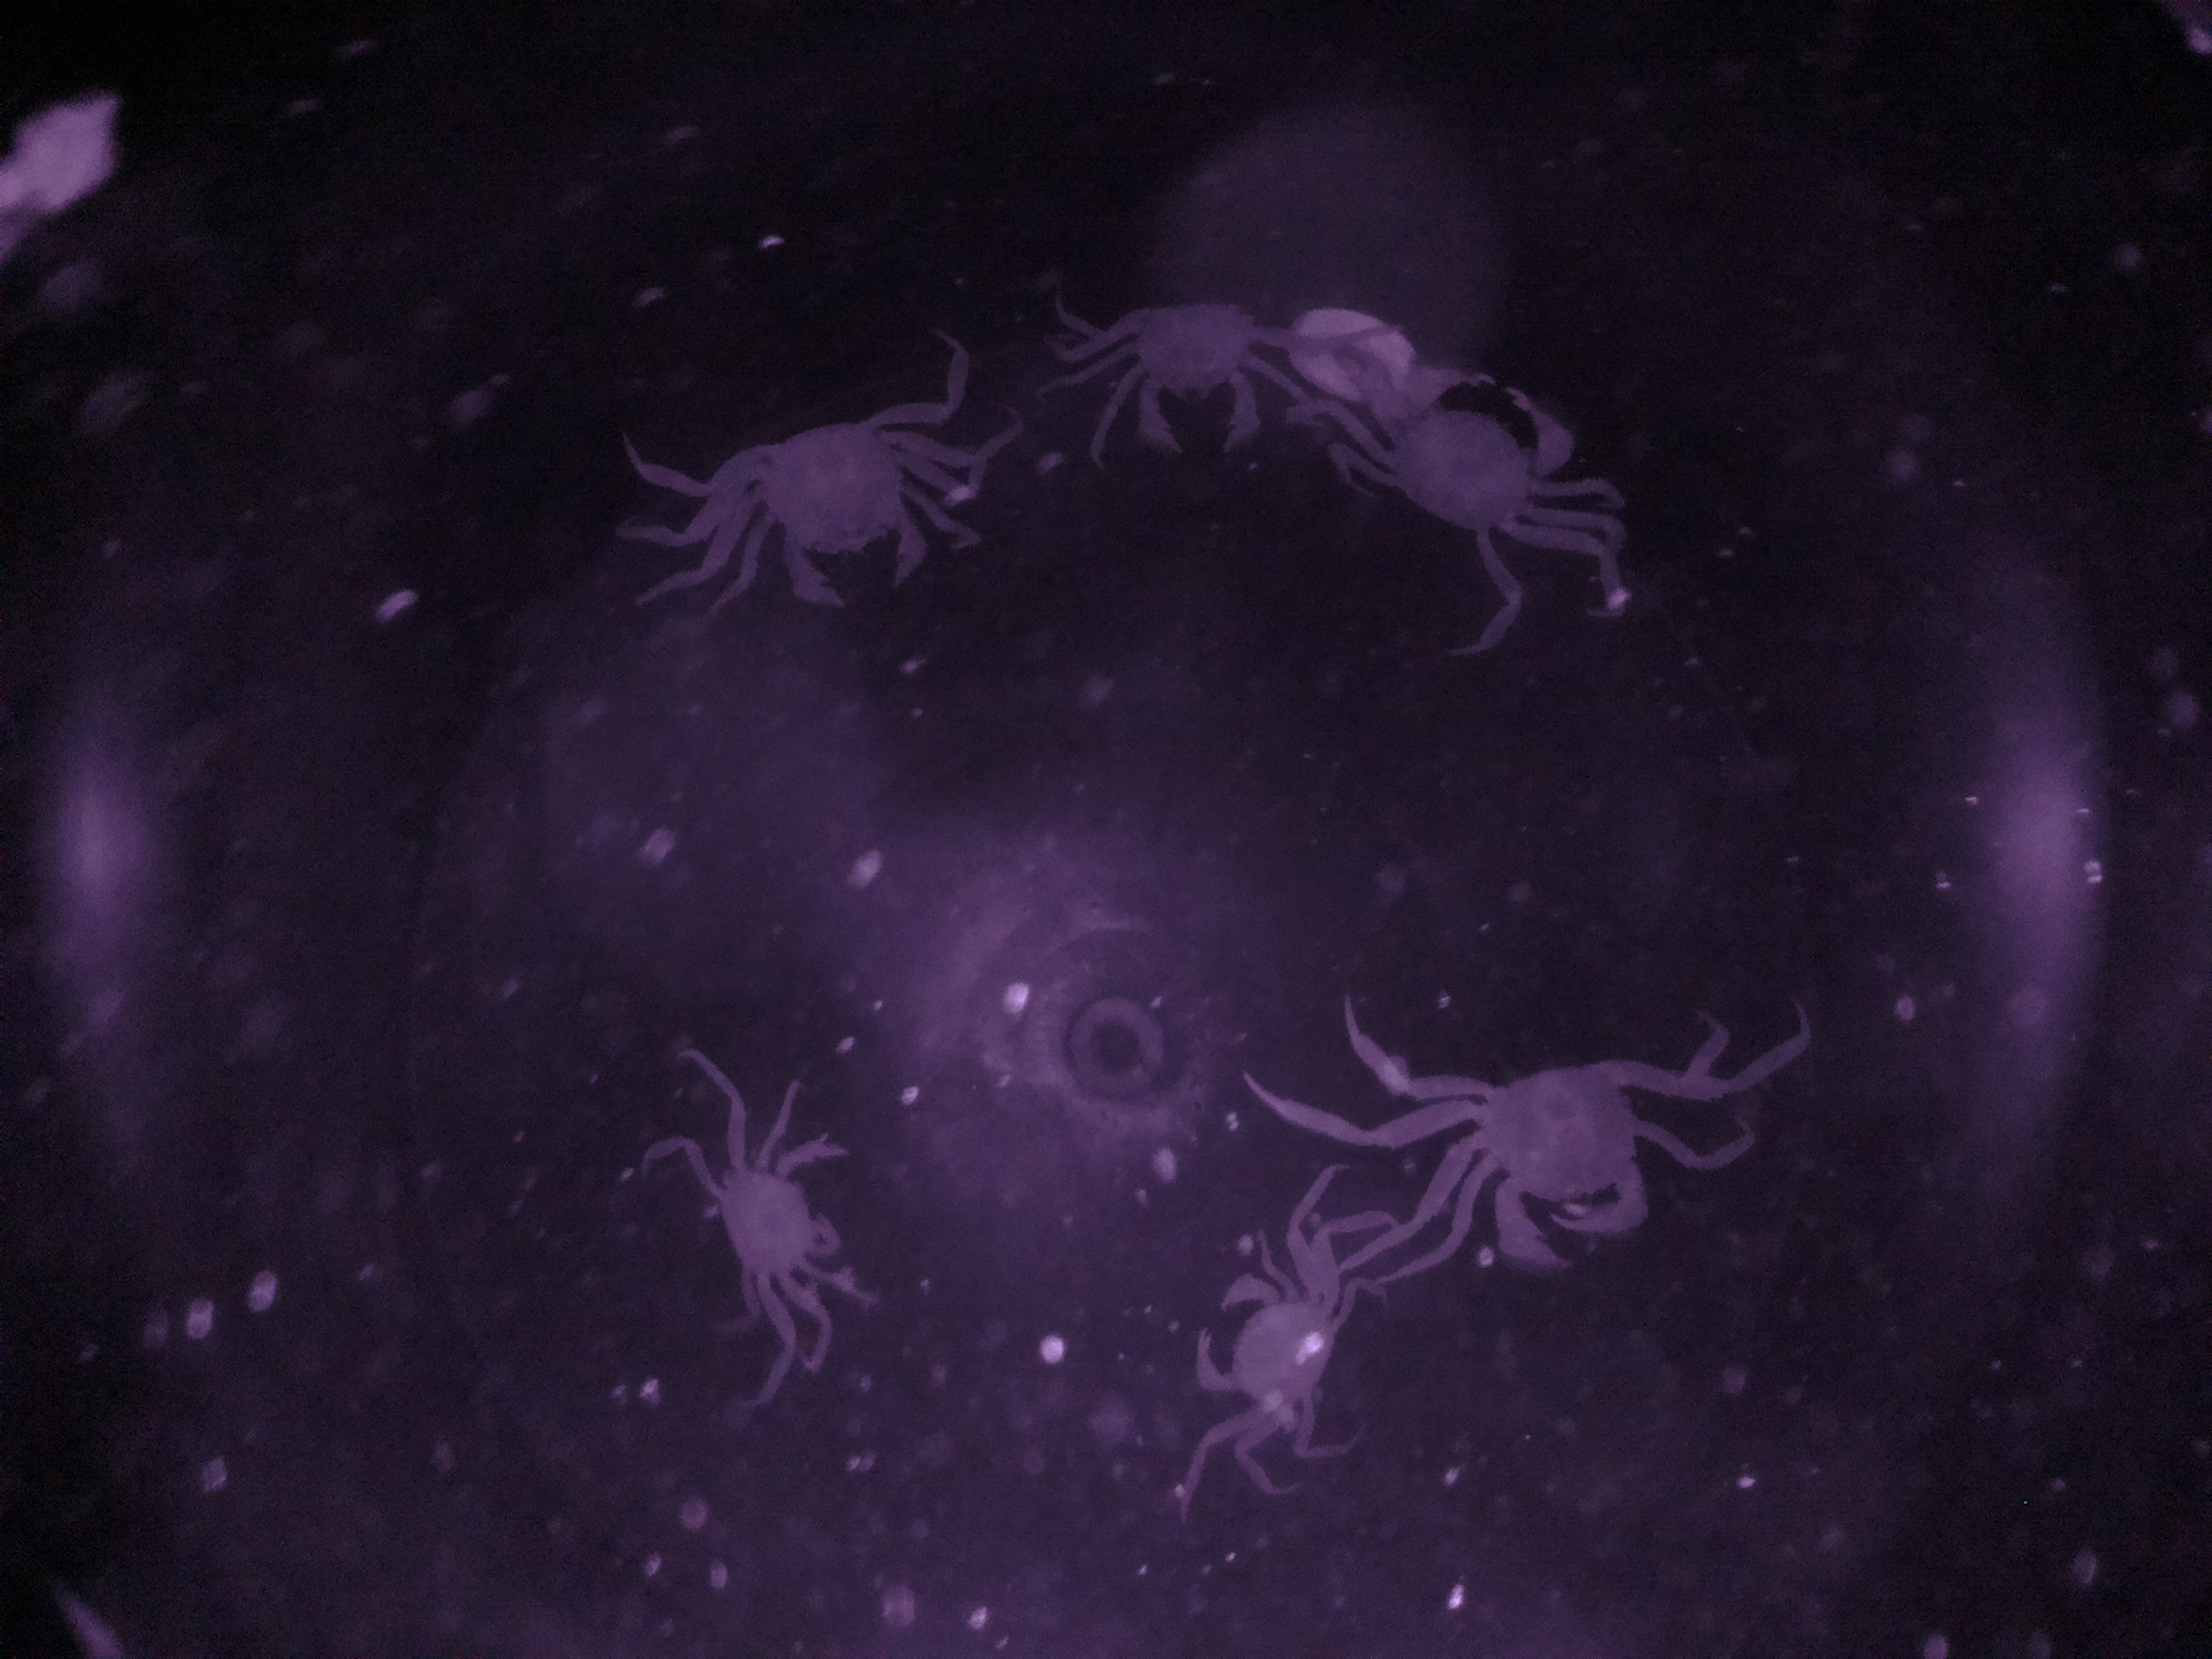Crab: (683, 380, 967, 641), (1416, 1033, 1689, 1288), (1325, 352, 1627, 542), (674, 1098, 880, 1340), (1073, 275, 1296, 477), (1172, 1230, 1379, 1441)
